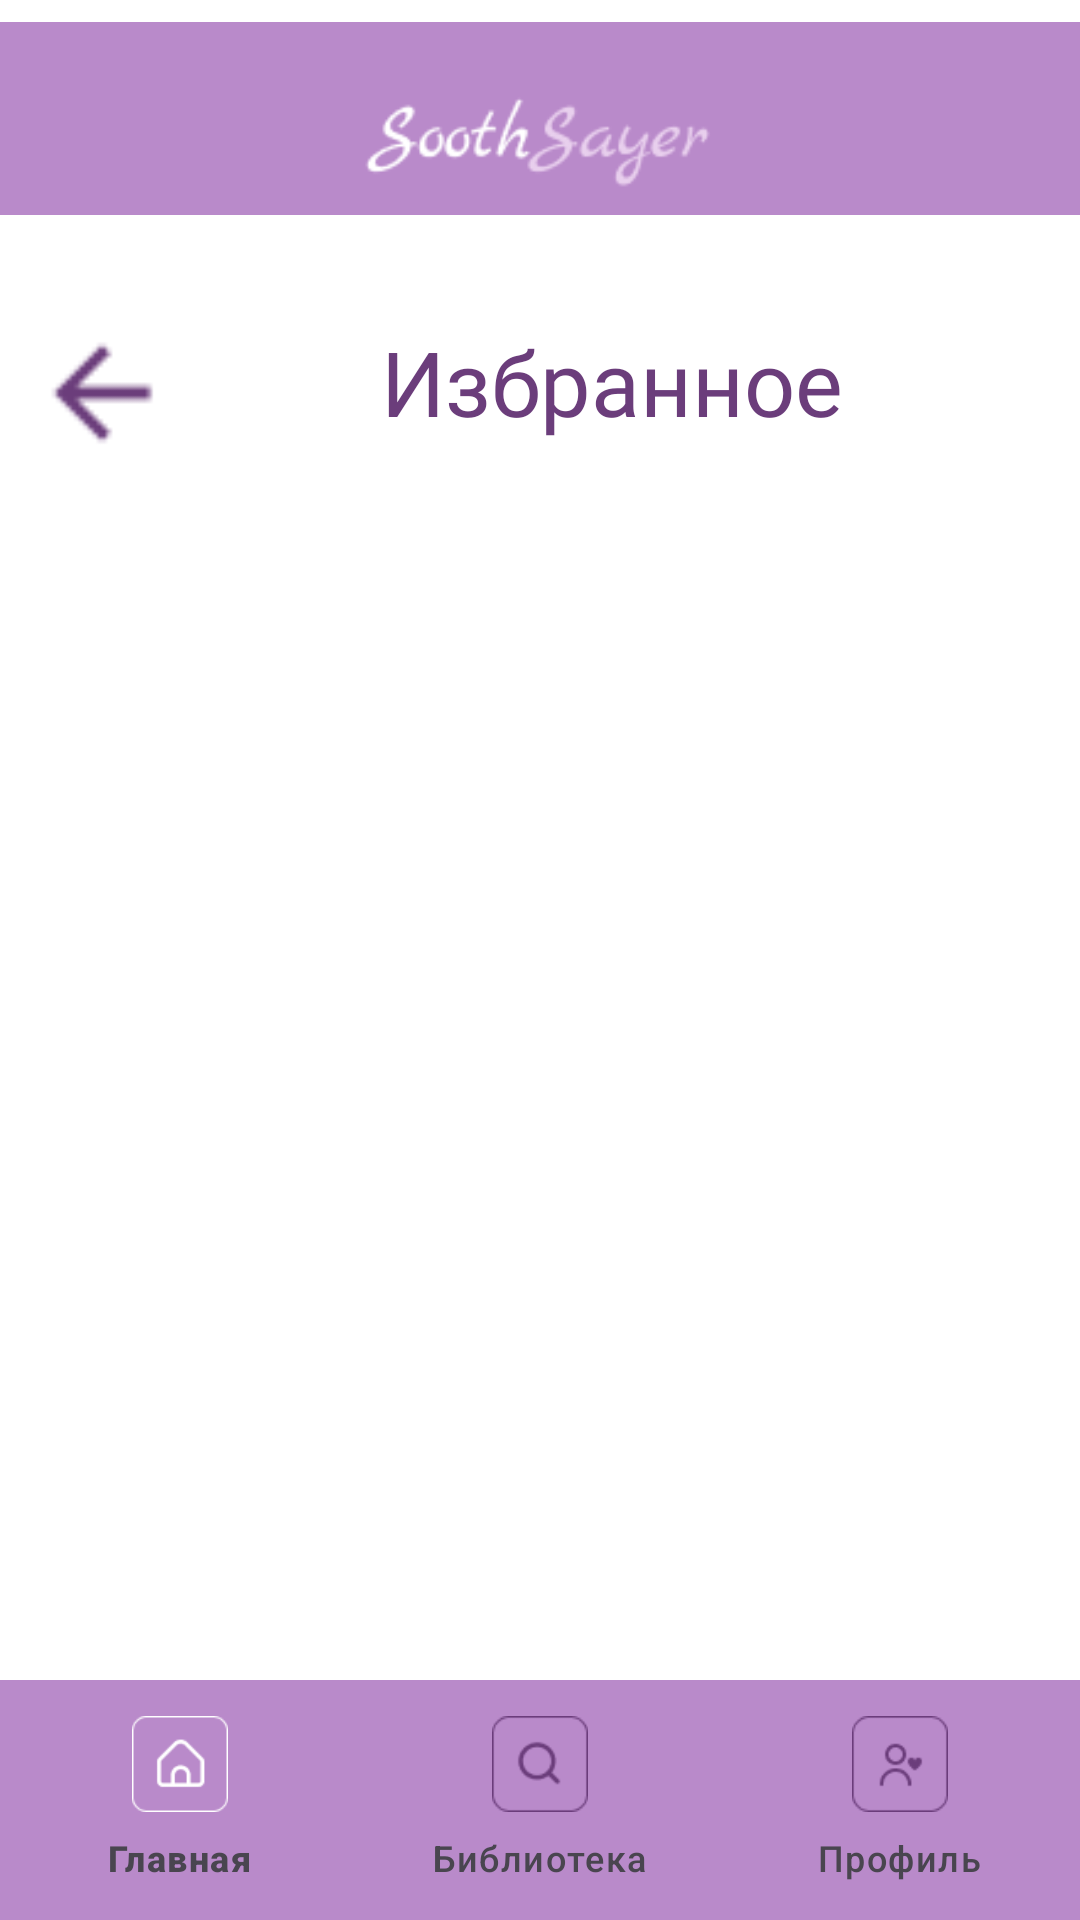

Screen size 1080px x 1920px. Icon name, then its center in pixels as point (x, y):
back: point (103, 393)
